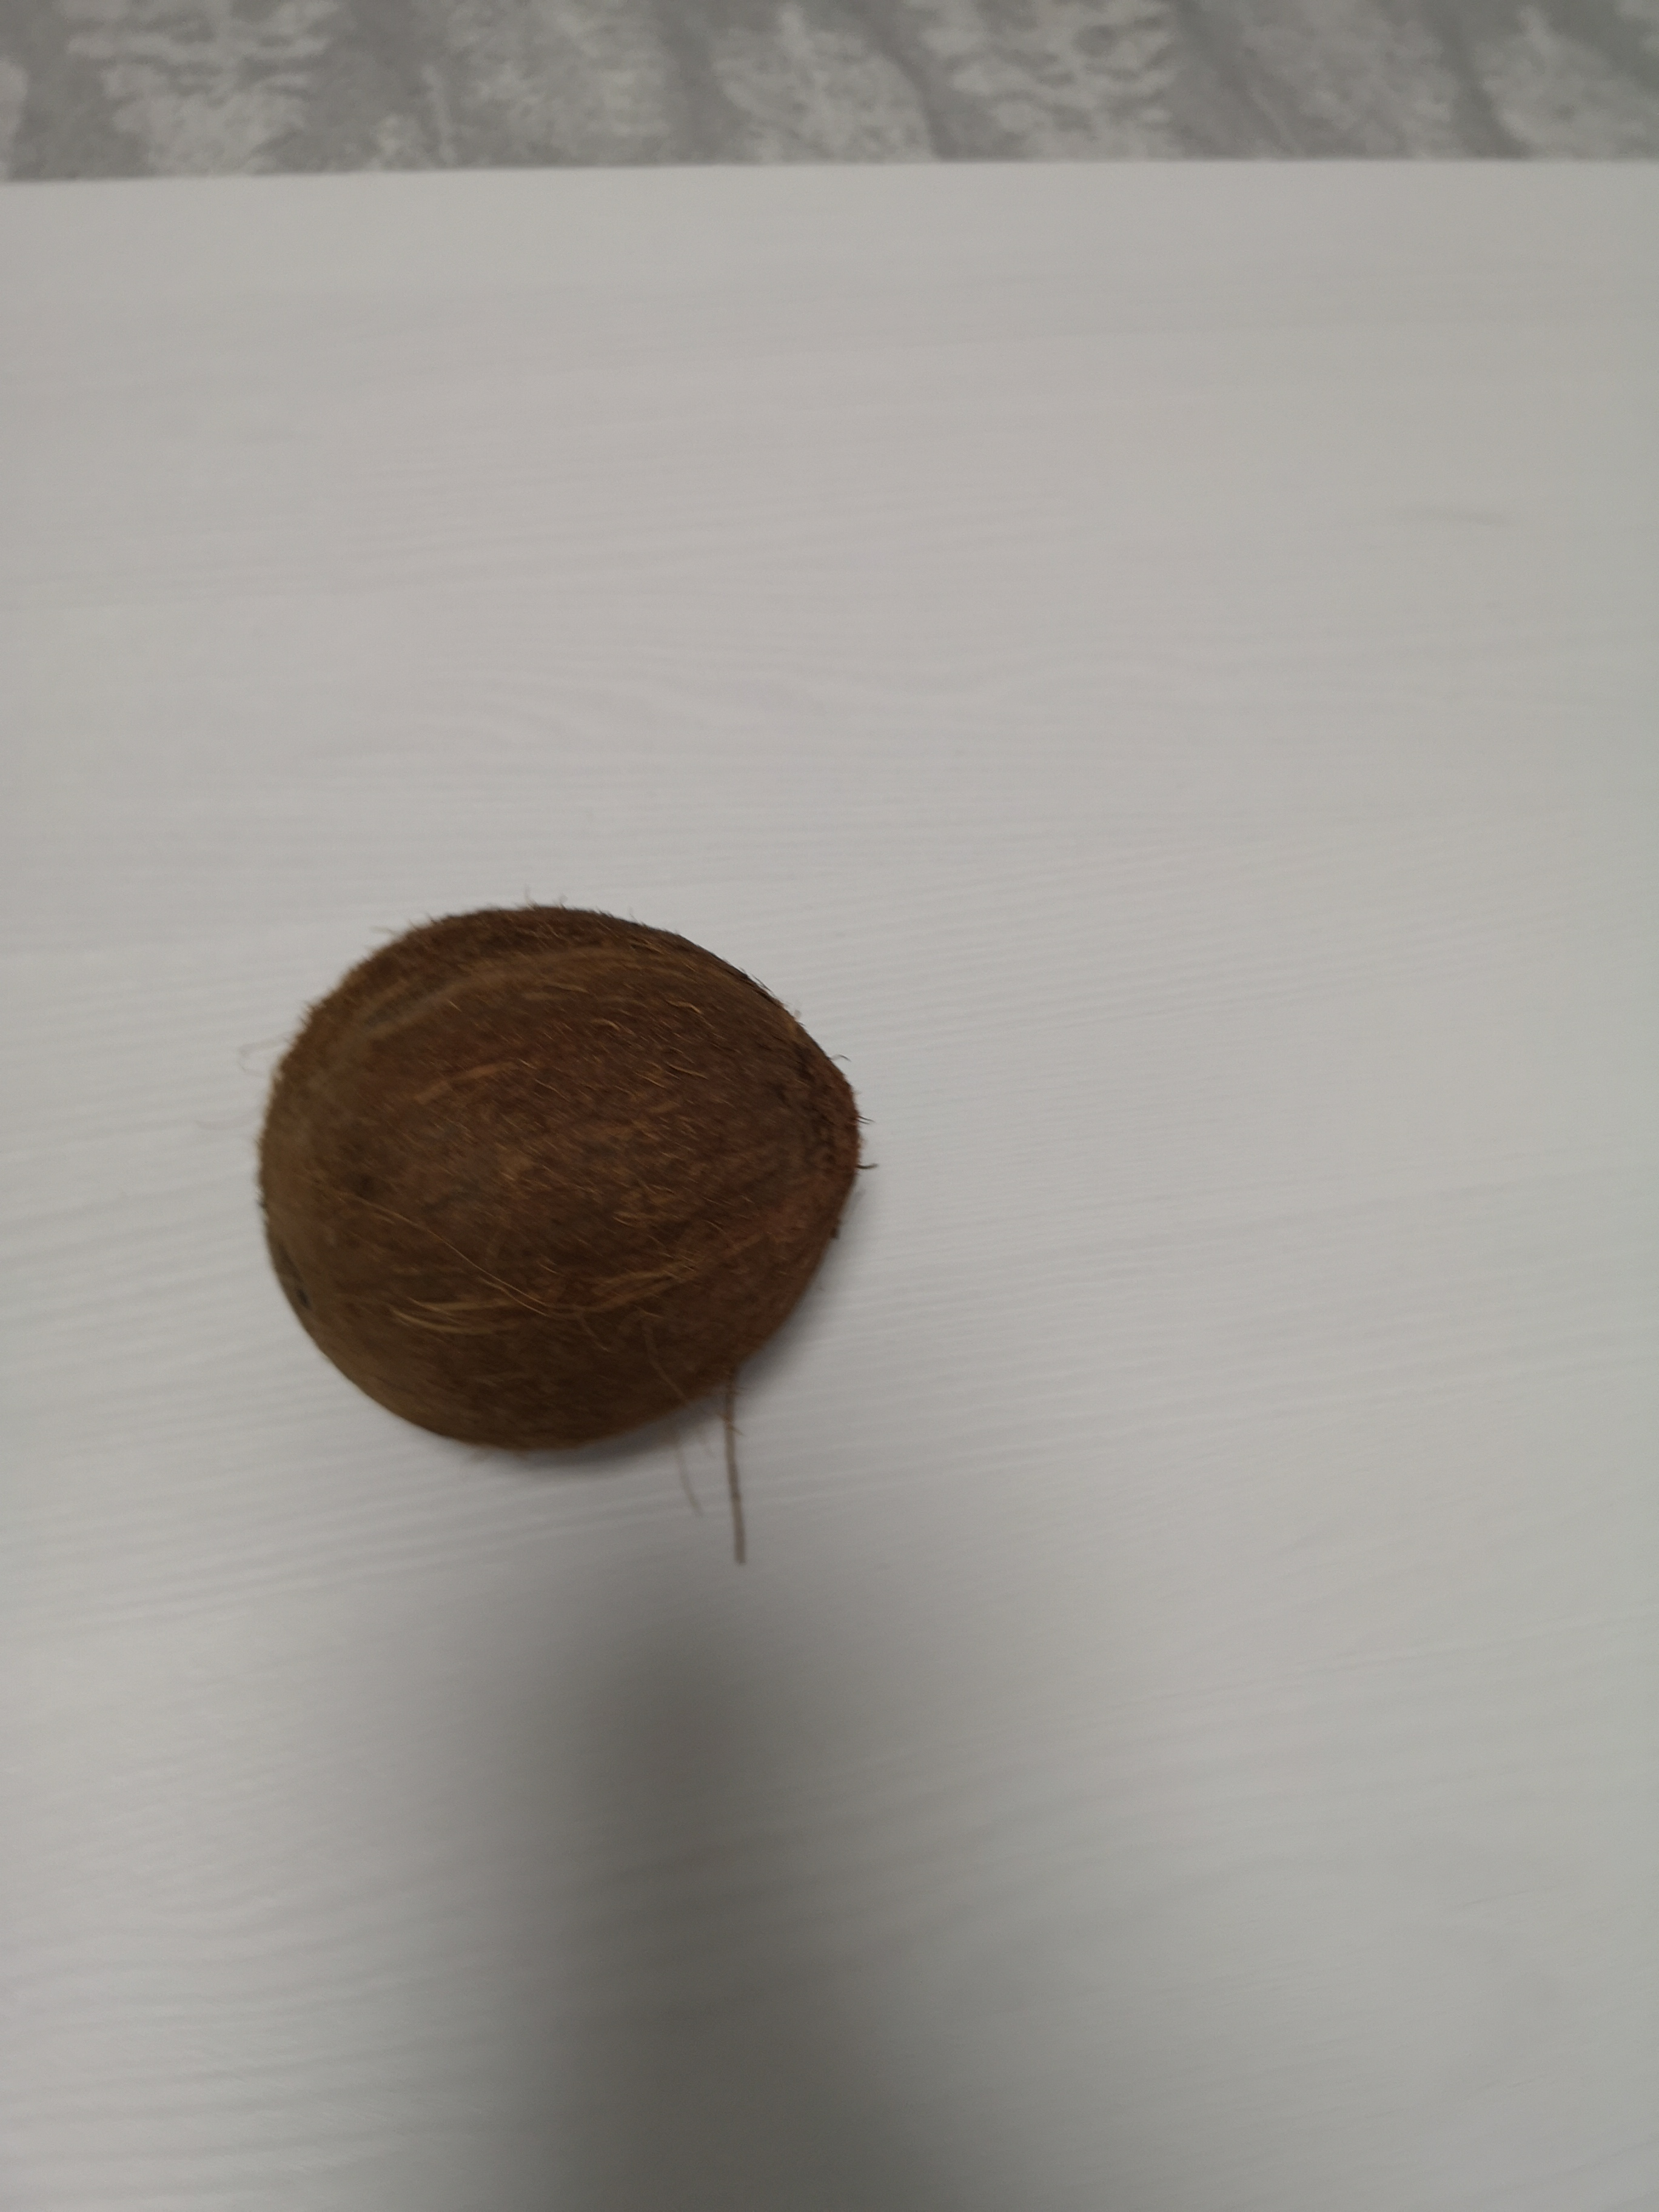coconut: (256, 883, 882, 1472)
